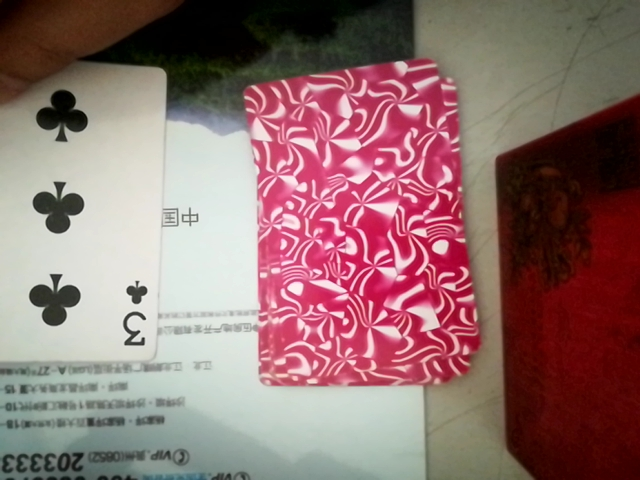mh 3: (1, 56, 195, 373)
